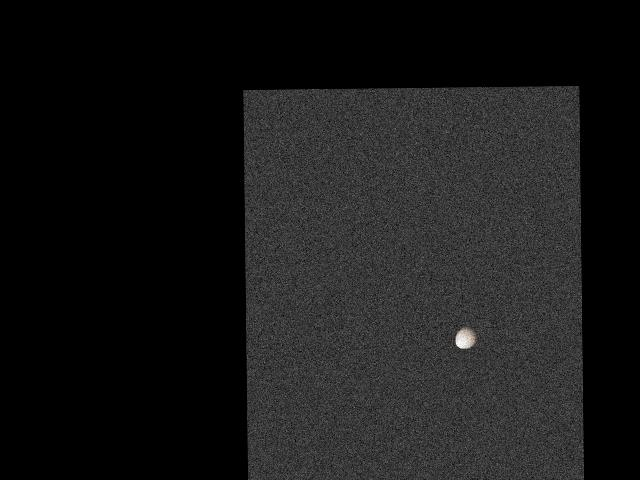egg: (455, 325, 478, 348)
